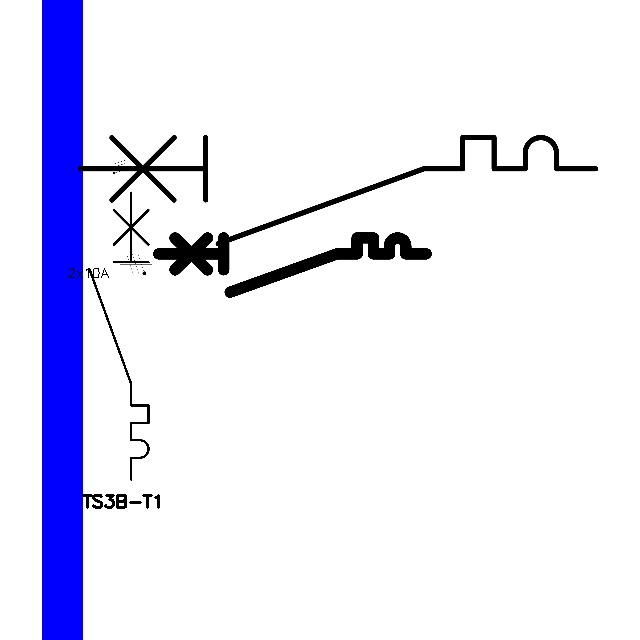interruptor_termomagnetico: (67, 124, 609, 256), (82, 185, 156, 487), (151, 231, 432, 299)
